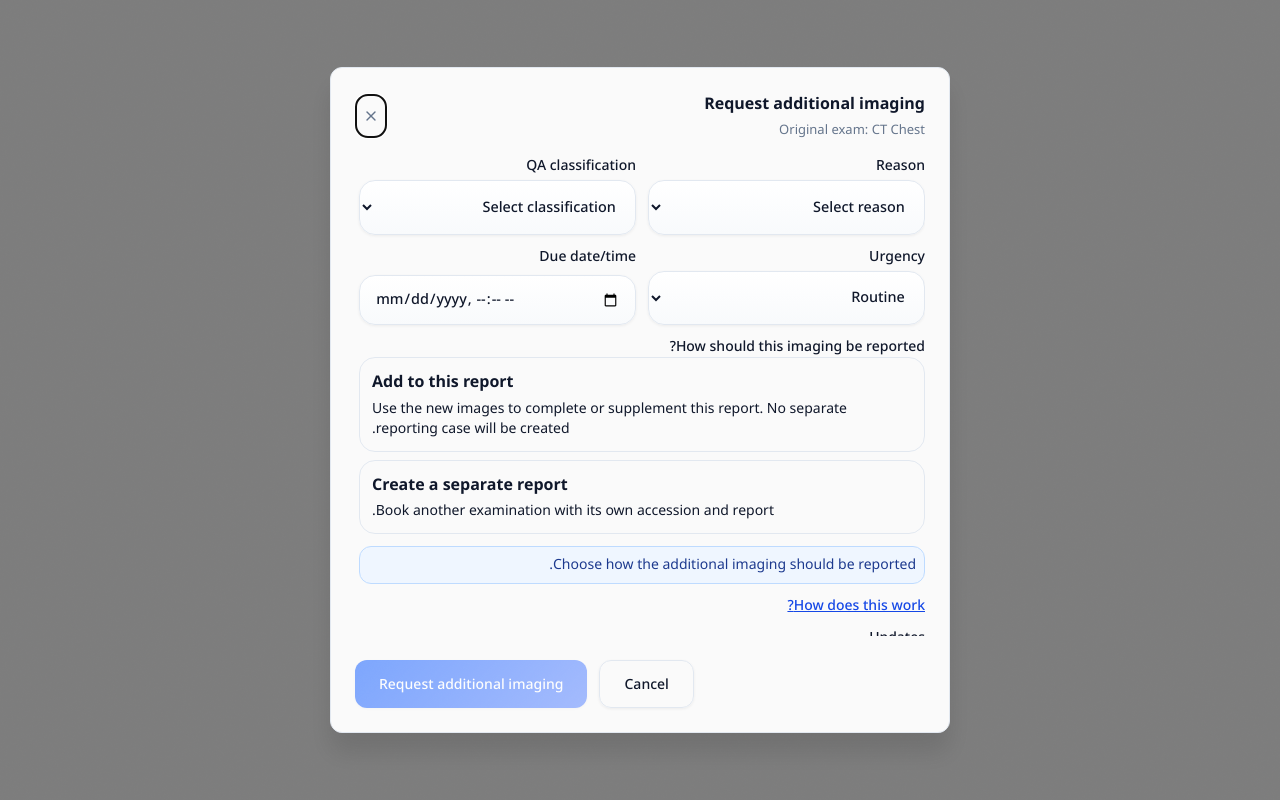
it: ComplementaryRecallRequestDialog › requires a new dependency choice when changing from supplement to separate report
Click the button "Add to this report".
click(642, 404)  # box [359,357,925,452]
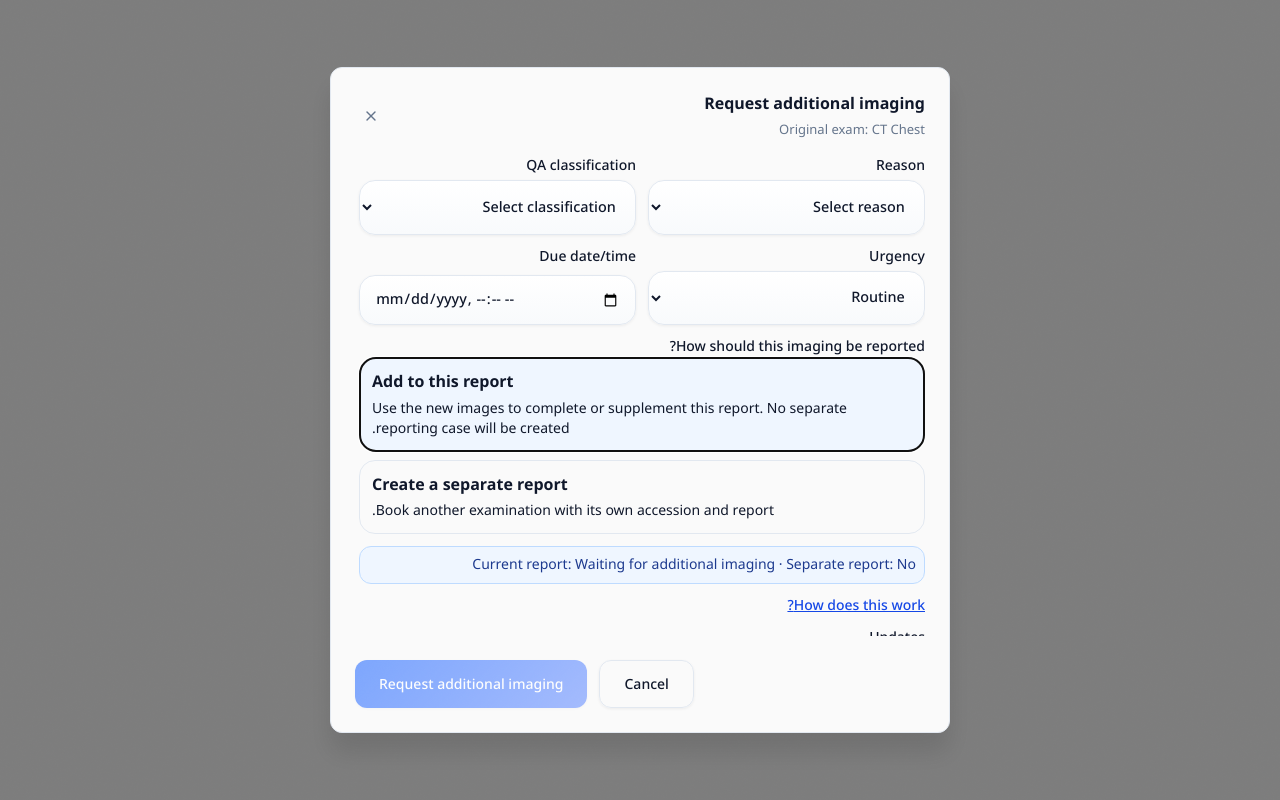
Click the button "Create a separate report".
click(642, 497)  # box [359,460,925,534]
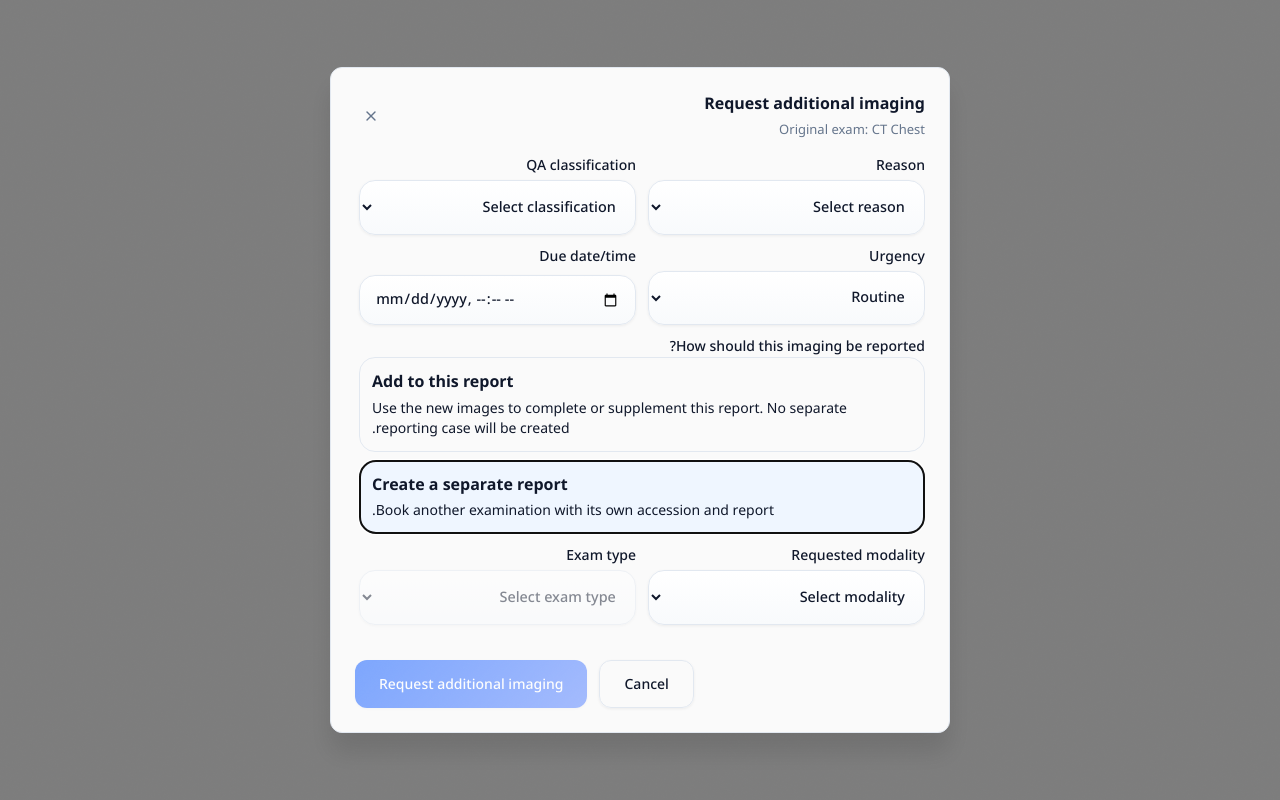
expect the dropdown labelled "Requested modality" shows "Select modality": met, box [648,570,925,625]
